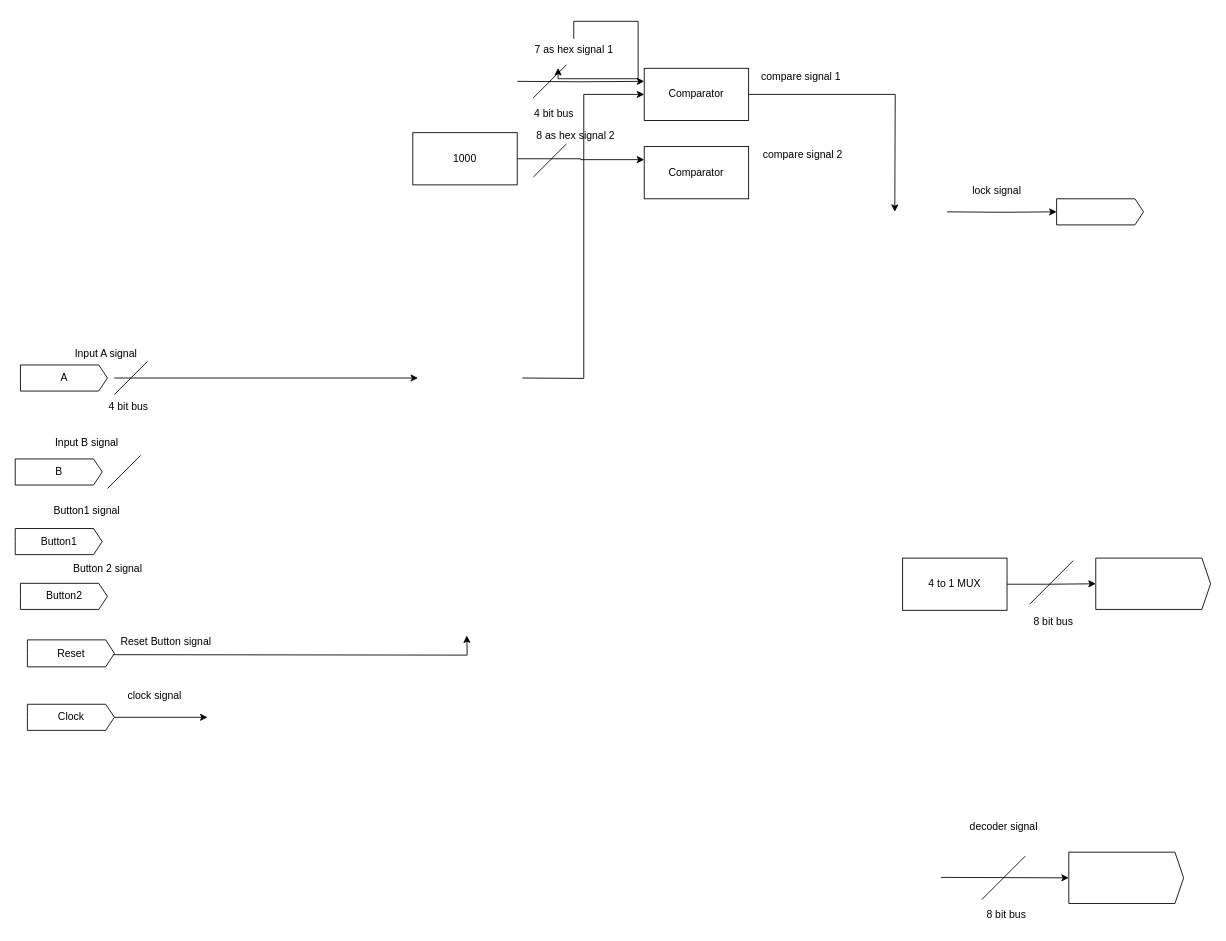
The diagram is 1226 pixels wide and 941 high, and some of its shapes have lost their labels. The shapes that lost their labels are listed below. From the top down, each one's centre as x and y in pixels, then its label:
At point (1100, 211): "Lock".
At point (1153, 583): "SSD Selector (Anode)".
At point (1126, 877): "SSD Value (Cathode)".
